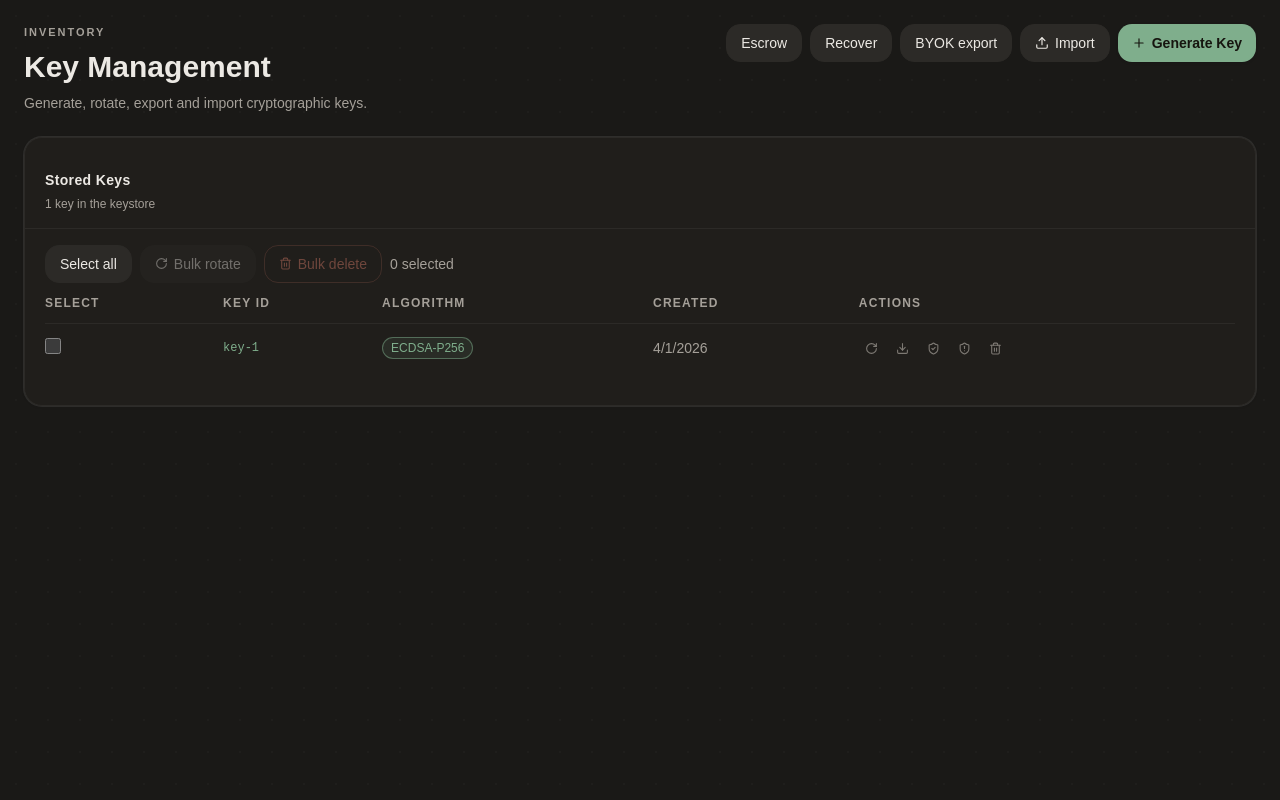
Test case: Keys policy and compromise (W23-40) › compromise shows blast radius then pending state
Click the button named "Compromised key-1": (964, 348) [952, 336, 977, 360]
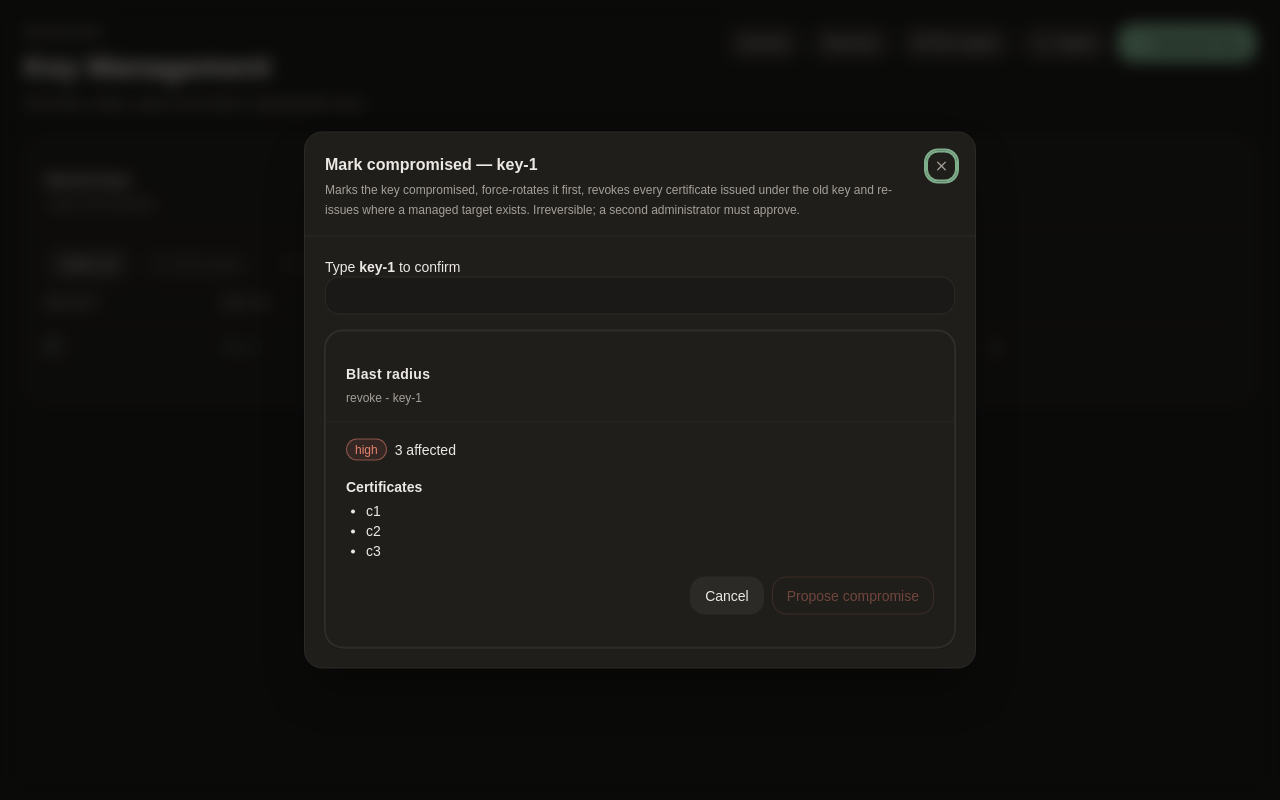
expect the text "3 affected" is shown: met, box [395, 440, 456, 460]
expect the button "Propose compromise" is disabled: met, box [772, 576, 934, 614]
In the field labelled "Type key-1 to confirm": (640, 296) [325, 276, 955, 314], type "key-1"
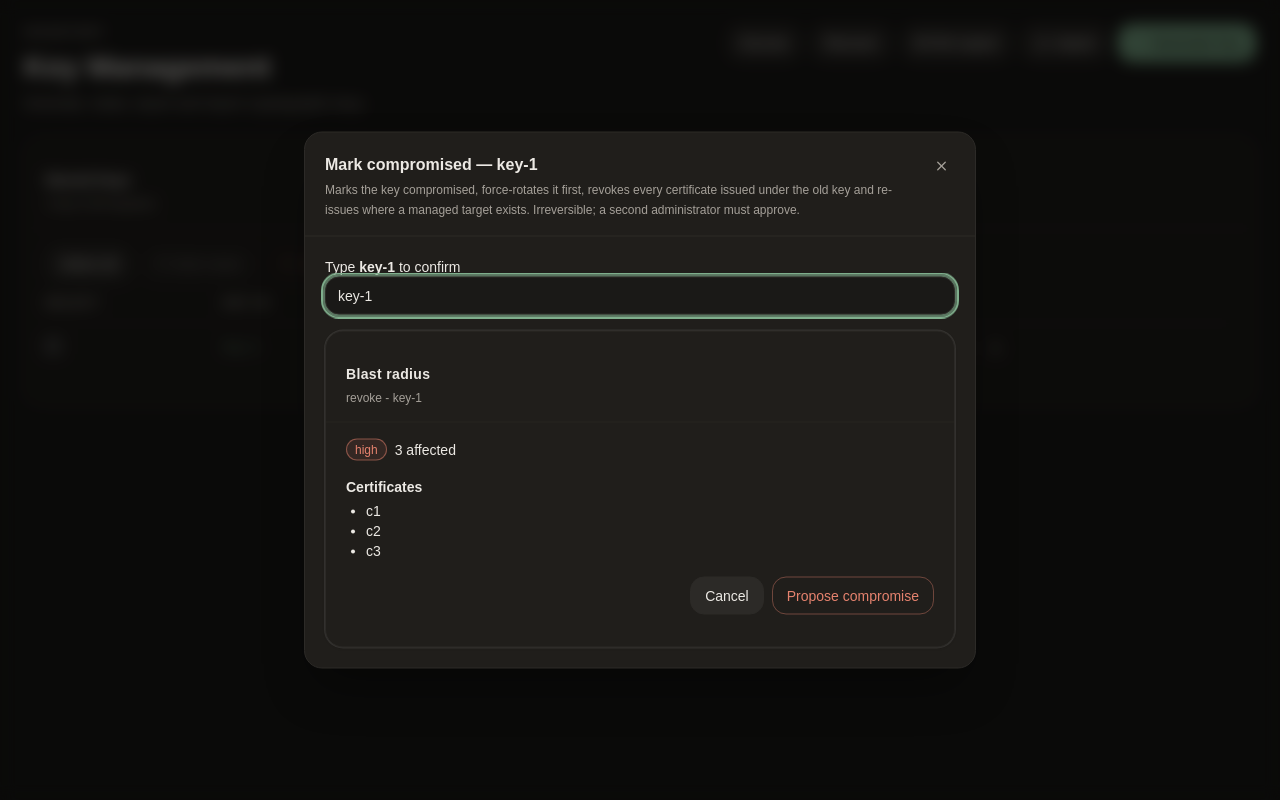
expect the button "Propose compromise" is enabled: met
Click the button "Propose compromise": (853, 596) [772, 576, 934, 614]
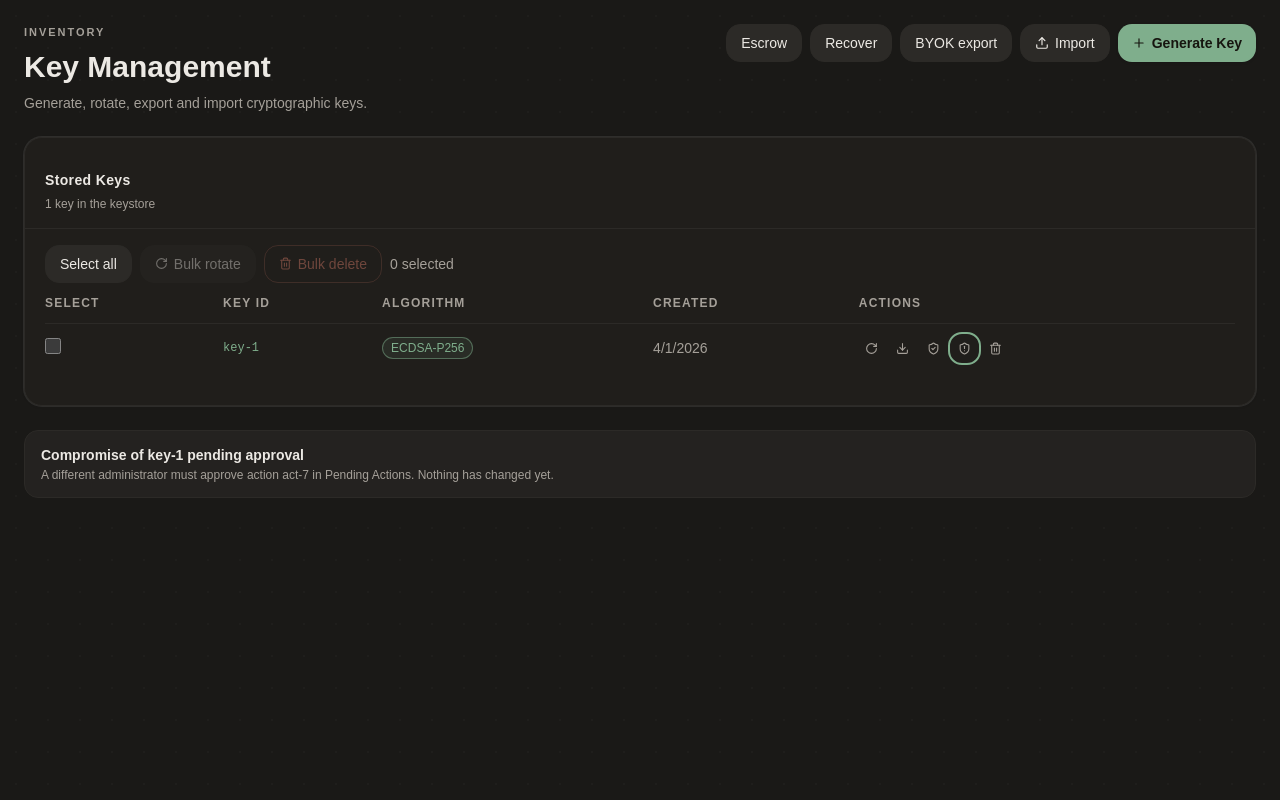
expect the text "act-7" is shown: met, box [41, 468, 554, 482]
expect the heading "compromised" is gone: met
